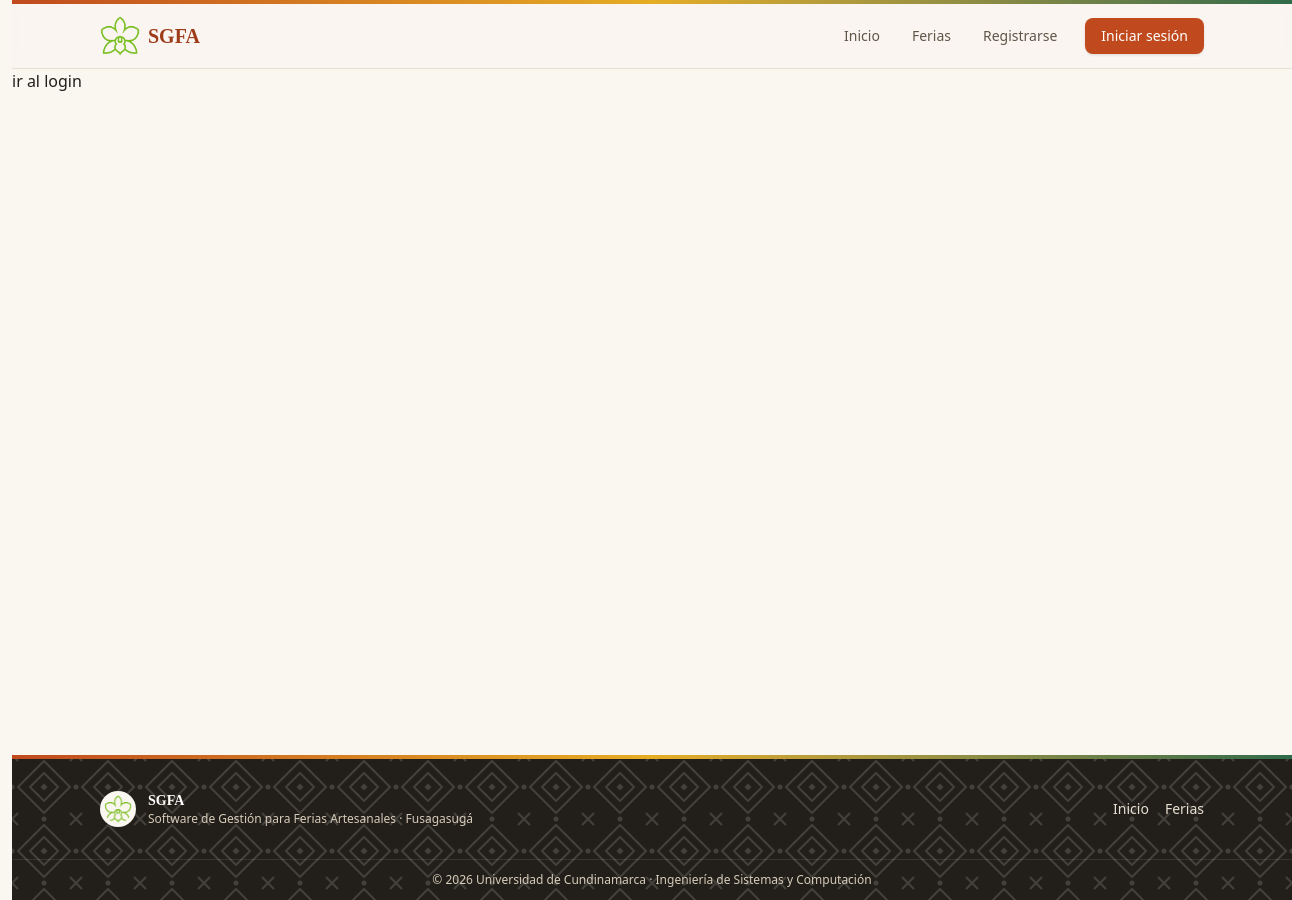
Test: Layout › lleva la página arriba al entrar y cada vez que cambia la ruta
Click the link "ir al login" at (47,81), box [12,70,82,92]
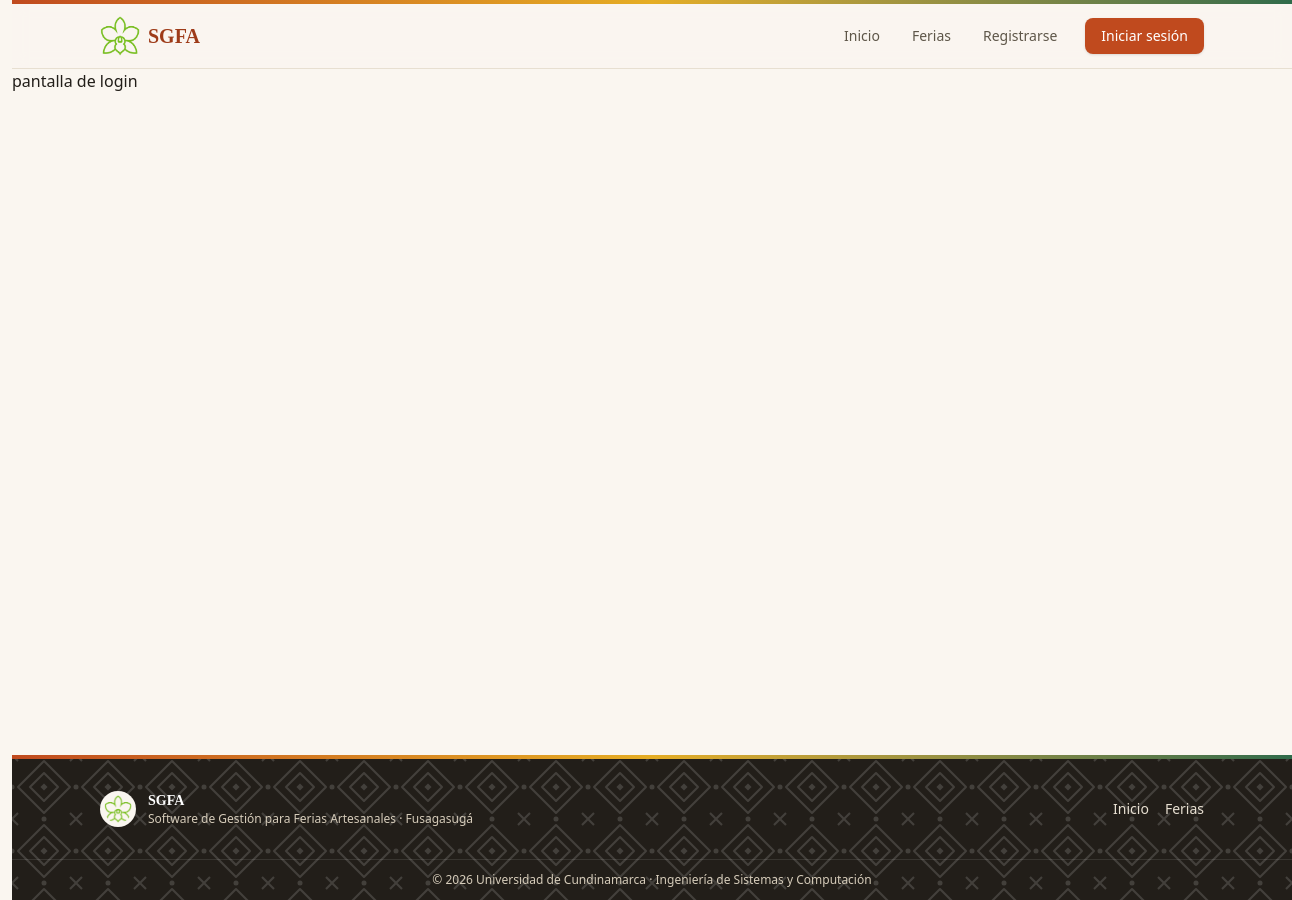
Expected: the text "pantalla de login" is shown, [12,70,138,92]
